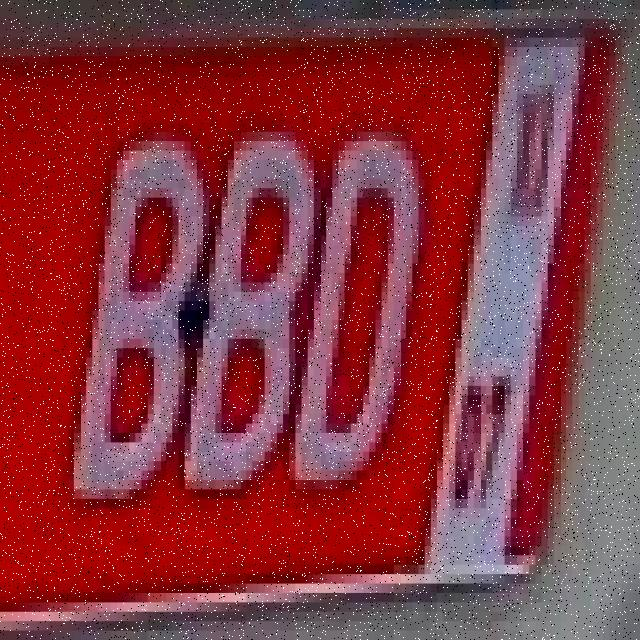licenseplate: (0, 9, 623, 632)
